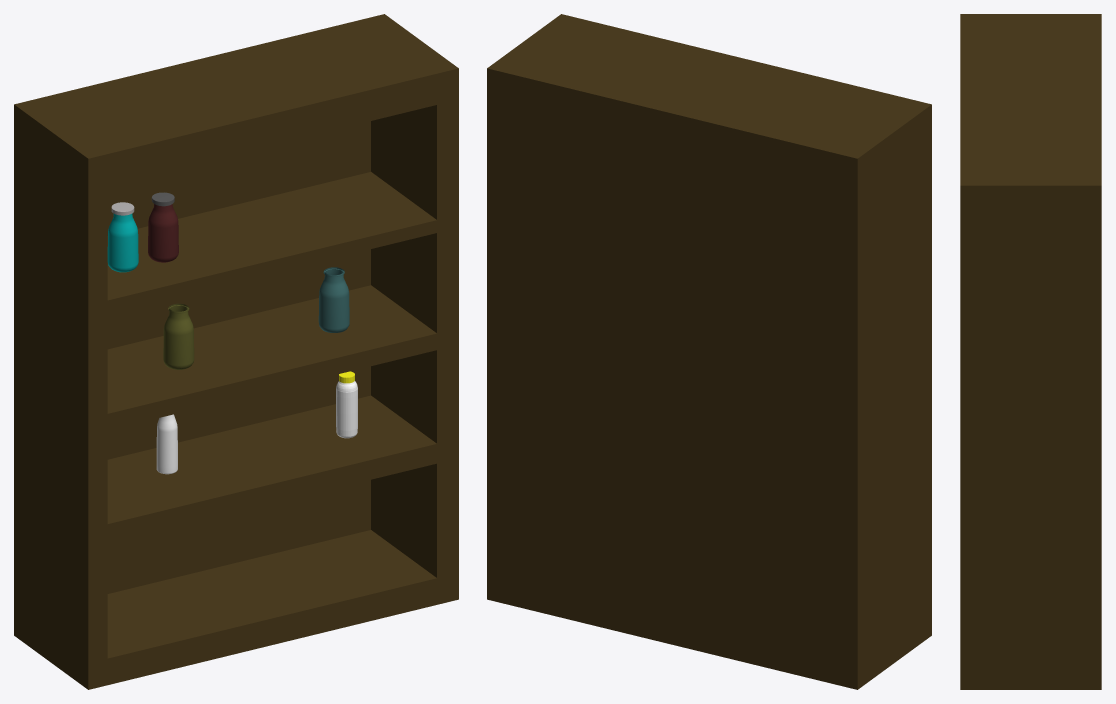
File: bottle shelf.fbx
The picture shows the model from 3 angles, left to right: view 1: azimuth 30°, elevation 25°; view 2: azimuth 150°, elevation 25°; view 3: azimuth 270°, elevation 25°; orthographic projection. The views are drawn at different scales.
Visible parts, largest first — view 1: shelf, bottle5, bottle7, bottle6, bottle10, bottle1, bottleglass; view 2: shelf; view 3: shelf.
Boxes of the visible parts, left/top/right/bottom form: shelf: left=14, top=14, right=458, bottom=689; bottle5: left=107, top=202, right=138, bottom=272; bottle7: left=148, top=192, right=178, bottom=262; bottle6: left=163, top=303, right=194, bottom=369; bottle10: left=318, top=267, right=349, bottom=332; bottle1: left=336, top=371, right=357, bottom=438; bottleglass: left=156, top=414, right=177, bottom=474; shelf: left=487, top=14, right=931, bottom=689; shelf: left=960, top=14, right=1101, bottom=689.
Bounding box in the file's own units: 2.9 × 3.97 × 1.01.
